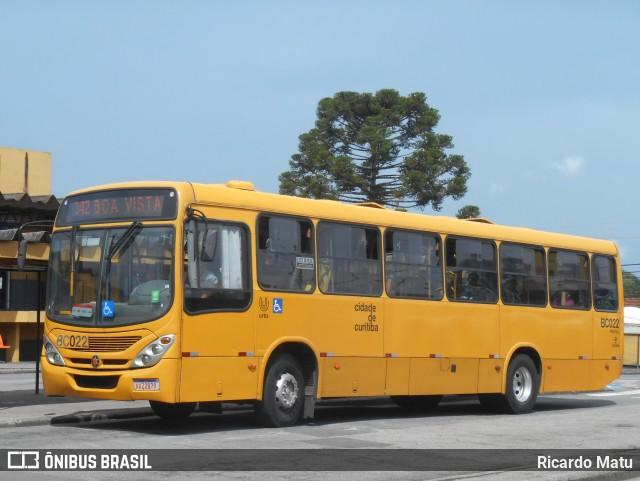BOA VISTA: (89, 192, 166, 219)
